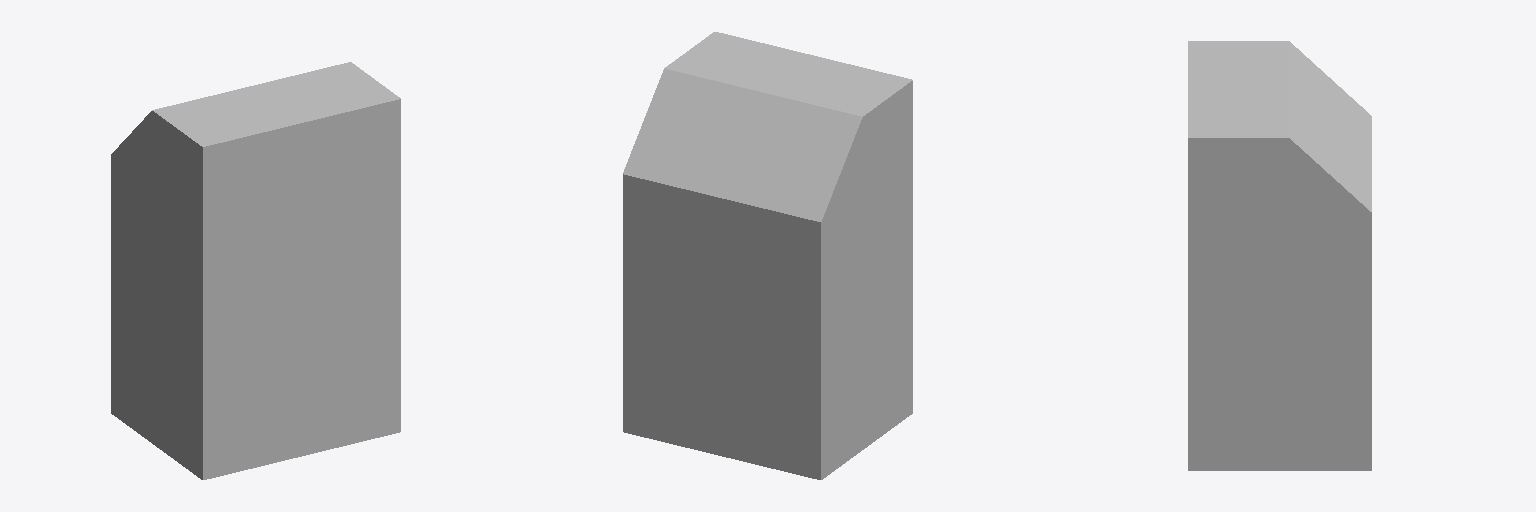
File: structure.obj
3 renders of one model, left to right at view 1: azimuth 30°, elevation 25°; view 2: azimuth 150°, elevation 25°; view 3: azimuth 270°, elevation 25°, orthographic.
Parts seen in each view (by area): view 1: Cube; view 2: Cube; view 3: Cube.
Boxes of the visible parts, box(x1,y1,x2,y2) form: Cube: box(111, 62, 400, 479); Cube: box(623, 32, 912, 479); Cube: box(1188, 41, 1371, 470).
Bounding box in the file's own units: 2.49 × 3.99 × 2.